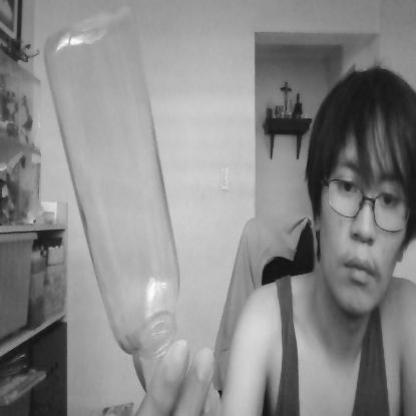Plastic Bottle: (39, 6, 185, 400)
